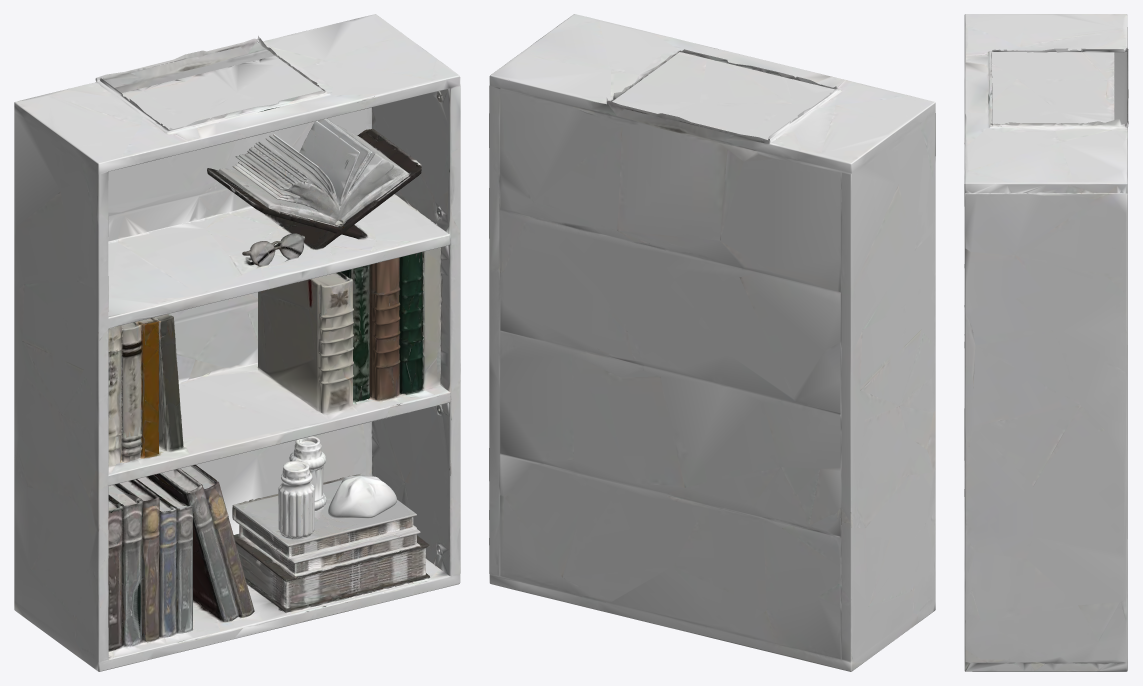
Rendered from buecherregal.glb.
3 views of the same model, side by side, from view 1: azimuth 30°, elevation 25°; view 2: azimuth 150°, elevation 25°; view 3: azimuth 270°, elevation 25° (orthographic). The views are drawn at different scales.
Size of the model in its own units: 1.17 by 1.59 by 0.4756.
Materials: 1 (1 with a texture image).
